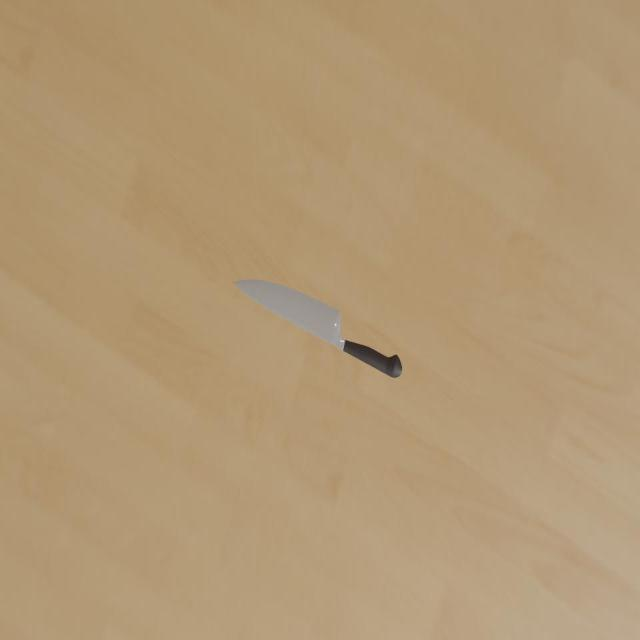knife: (343, 339, 402, 378)
